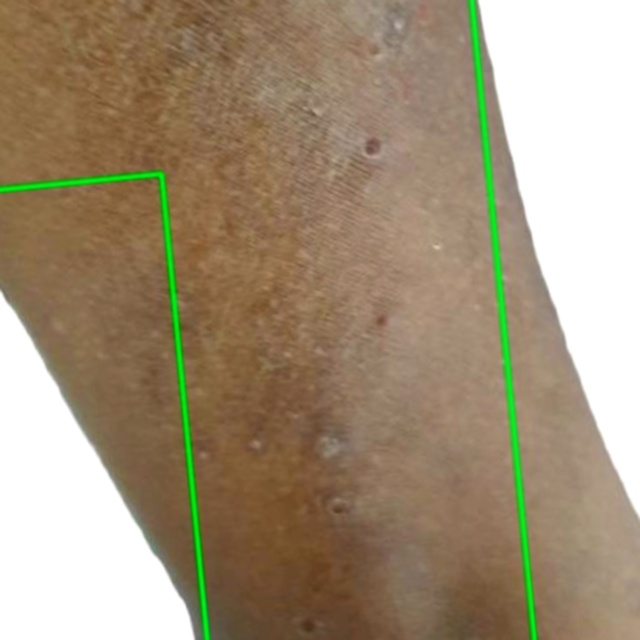Contact Dermatitis: (472, 0, 639, 639), (0, 173, 207, 639)
